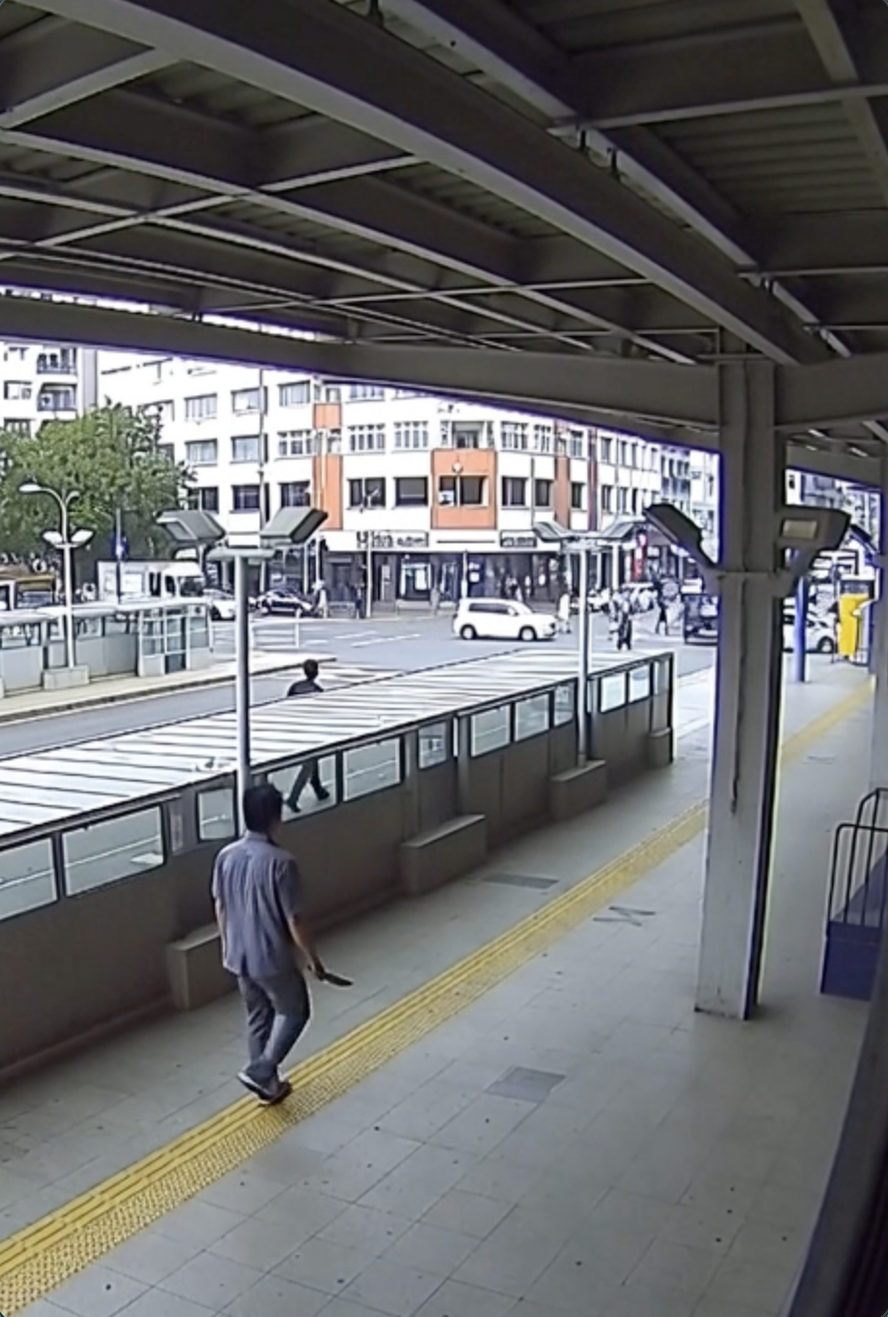Heavy Gun: (210, 774, 320, 1115)
Knife: (303, 952, 358, 995)
